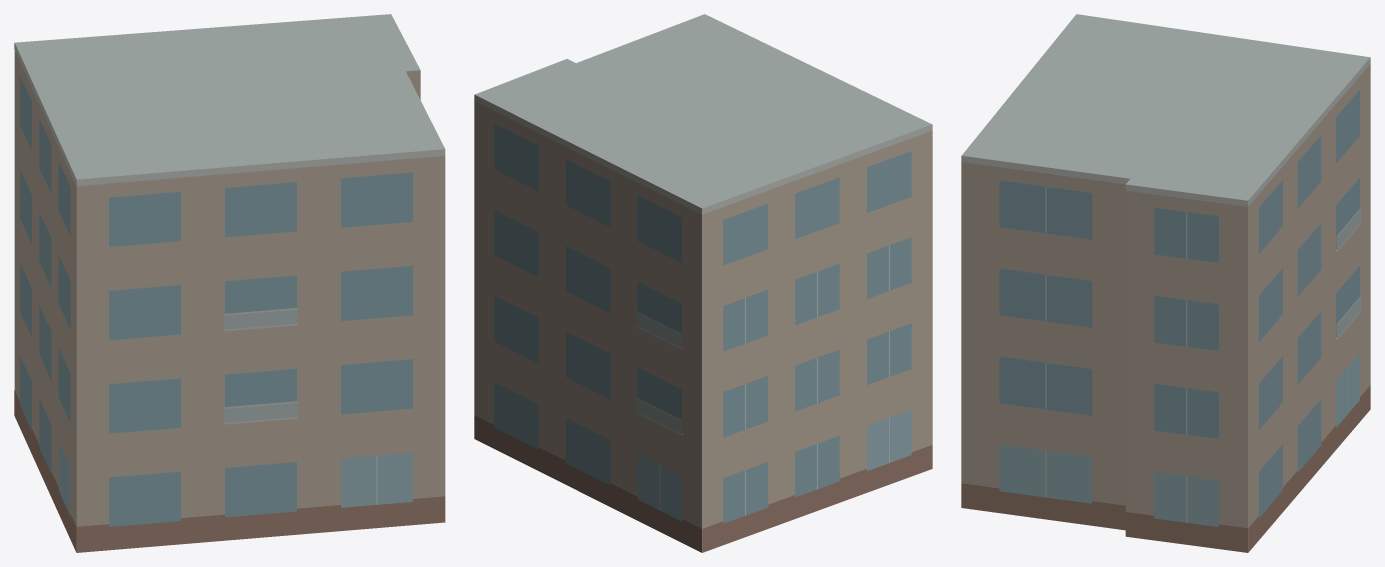
File: survey-upis-32849552.glb
3 views of the same model, side by side, from view 1: azimuth 30°, elevation 25°; view 2: azimuth 150°, elevation 25°; view 3: azimuth 270°, elevation 25° (orthographic). The views are drawn at different scales.
Parts seen in each view (by area): view 1: survey-upis-32849552.tmp; view 2: survey-upis-32849552.tmp; view 3: survey-upis-32849552.tmp.
Part boxes in pixels (x1,y1,x2,y2): survey-upis-32849552.tmp: (14, 14, 445, 552); survey-upis-32849552.tmp: (474, 14, 932, 552); survey-upis-32849552.tmp: (961, 14, 1370, 552).
Size of the model in its own units: 15.59 by 13.7 by 14.43.
